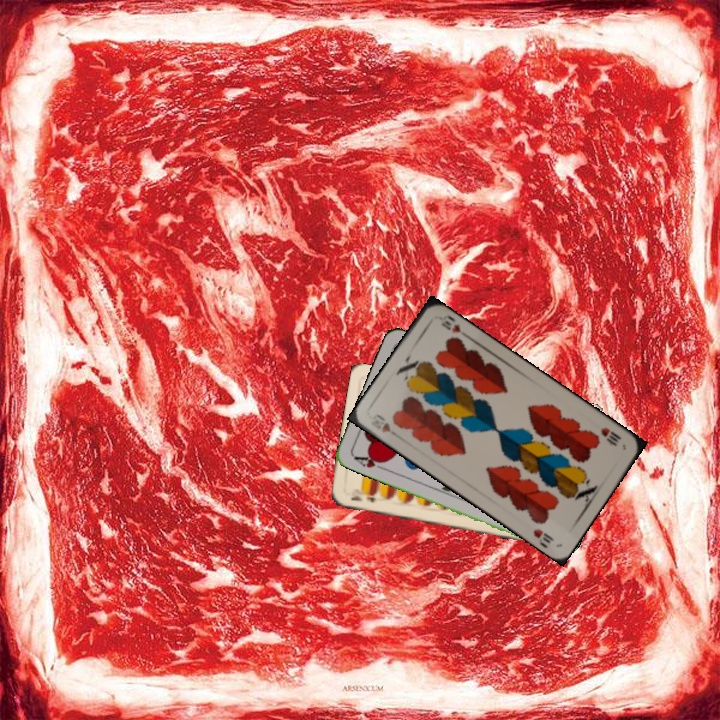E10: (347, 492, 379, 505)
H10: (596, 423, 624, 449), (372, 410, 393, 436)
HA: (350, 450, 389, 473)
